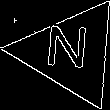N_S: (47, 26, 94, 79)
